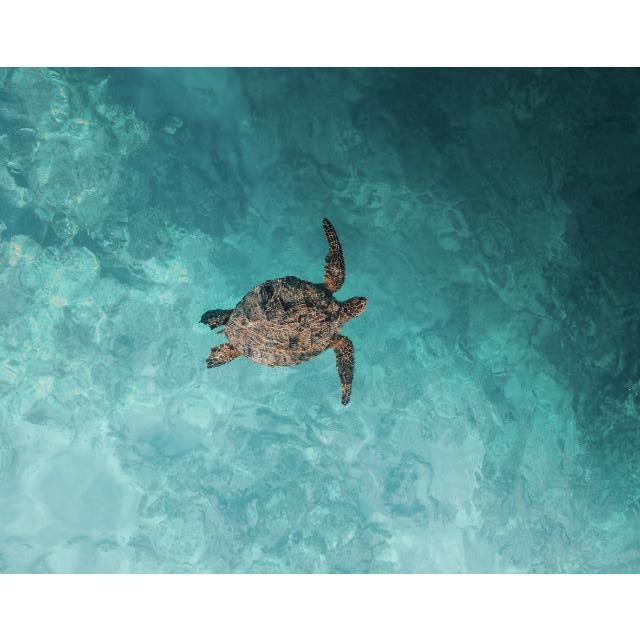turtle: (198, 217, 367, 405)
